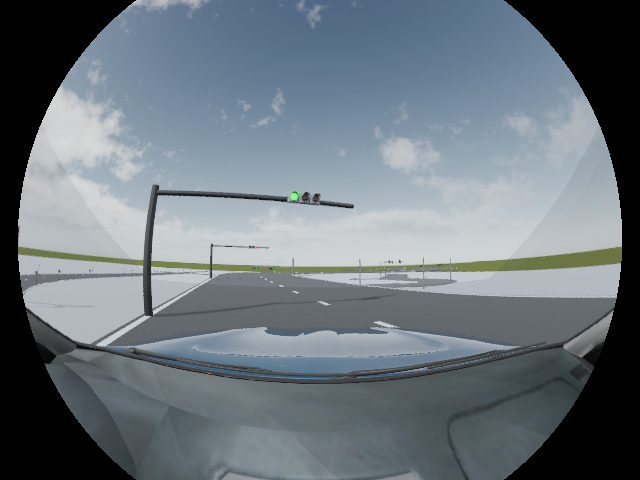Green Light: (288, 189, 323, 205)
